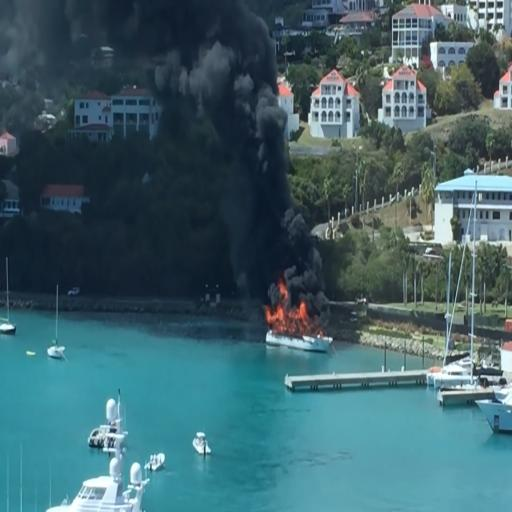fire: (270, 288, 308, 331)
smoke: (175, 0, 272, 106)
